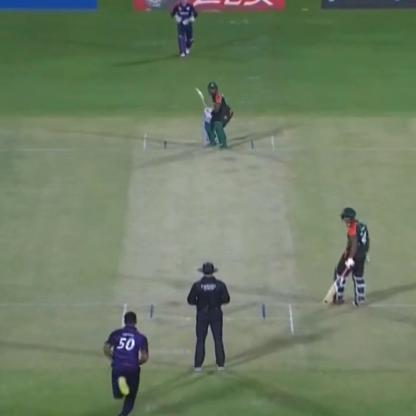bat: (114, 132, 298, 346)
pitch: (190, 80, 212, 121)
